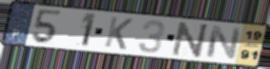1: (80, 12, 98, 49)
3: (138, 19, 166, 54)
5: (30, 8, 63, 45)
K: (102, 15, 135, 52)
N: (170, 20, 211, 58), (205, 24, 243, 61)
